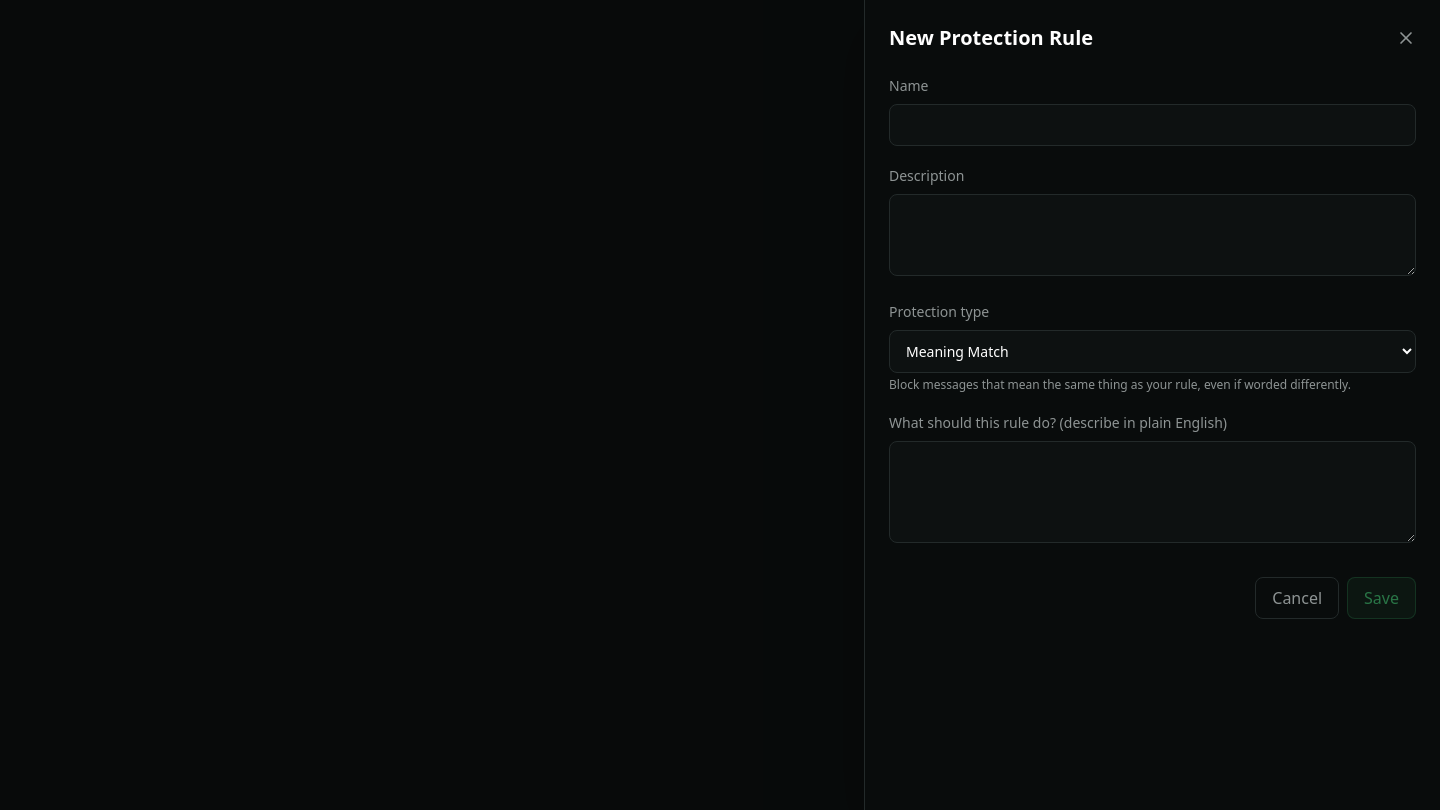
Test: PolicyBuilderModal › renders dynamic inputs based on selected rule type
This screenshot has width=1440, height=810.
Select "Pattern Match" in the dropdown with test id "policy-rule-type" at (1152, 352), box [889,330,1416,373]
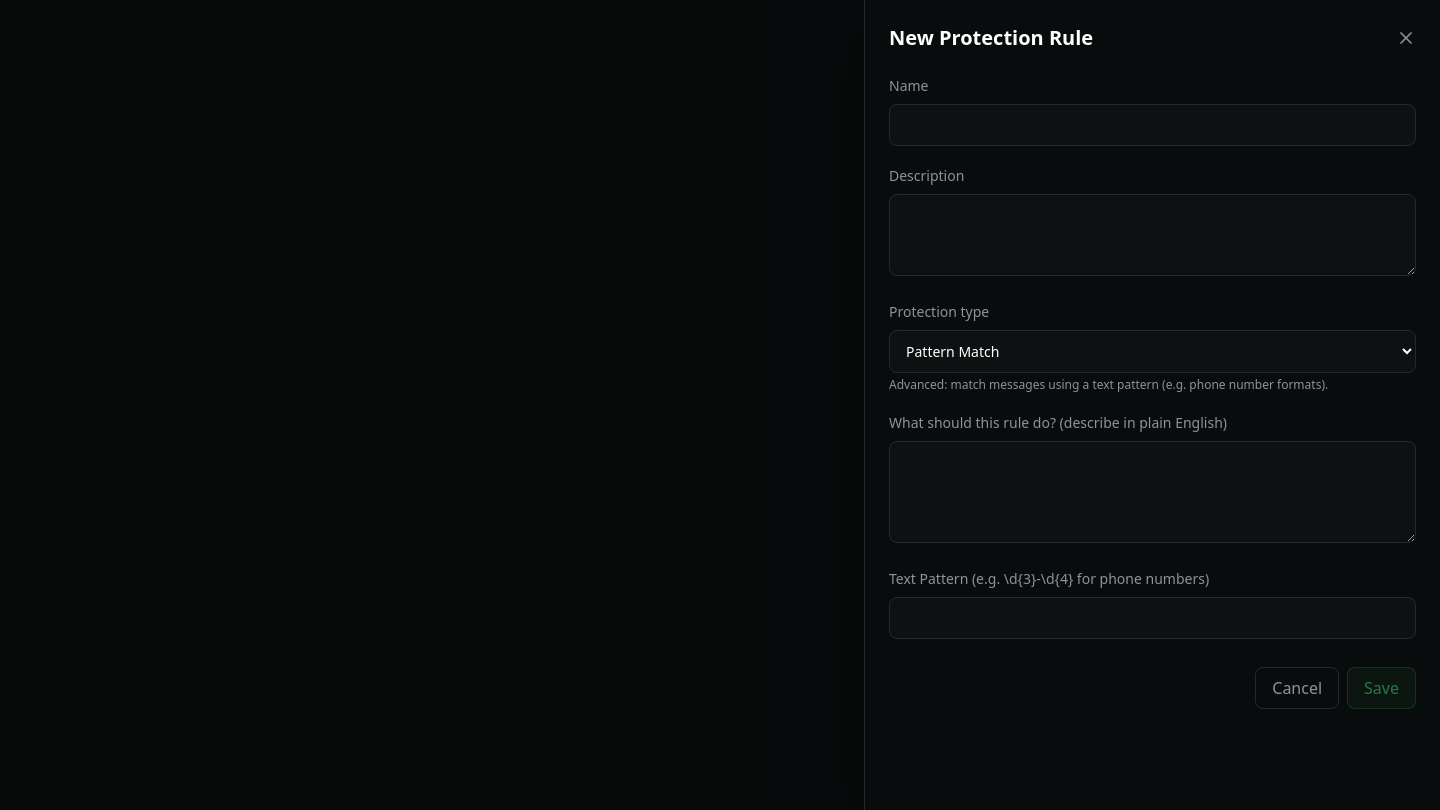
Now the field with test id "policy-regex-pattern" is shown, box [889,597,1416,639]
Select "AI Content Check" in the dropdown with test id "policy-rule-type" at (1152, 352), box [889,330,1416,373]
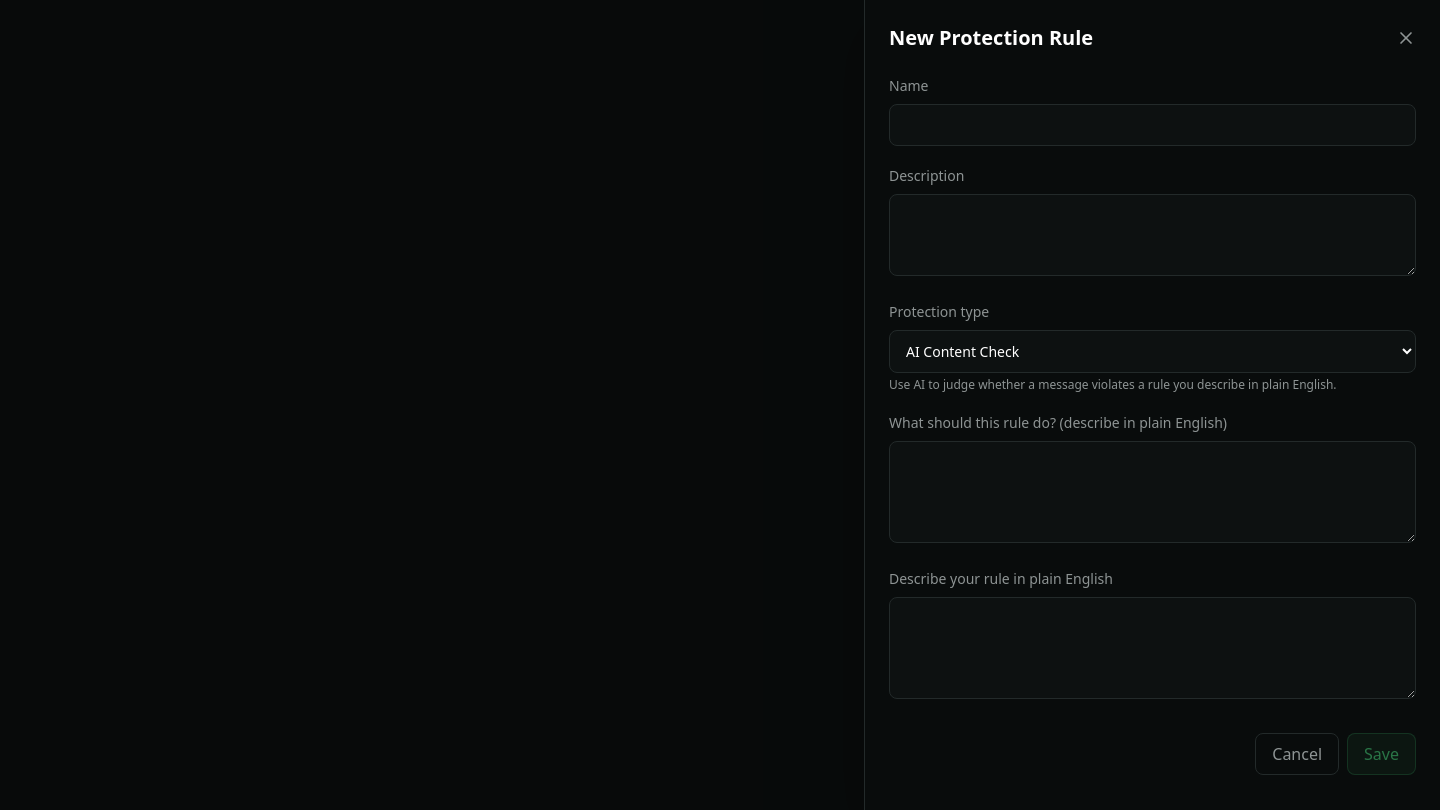
Now the text box with test id "policy-llm-rubric" is shown, box [889,597,1416,699]
